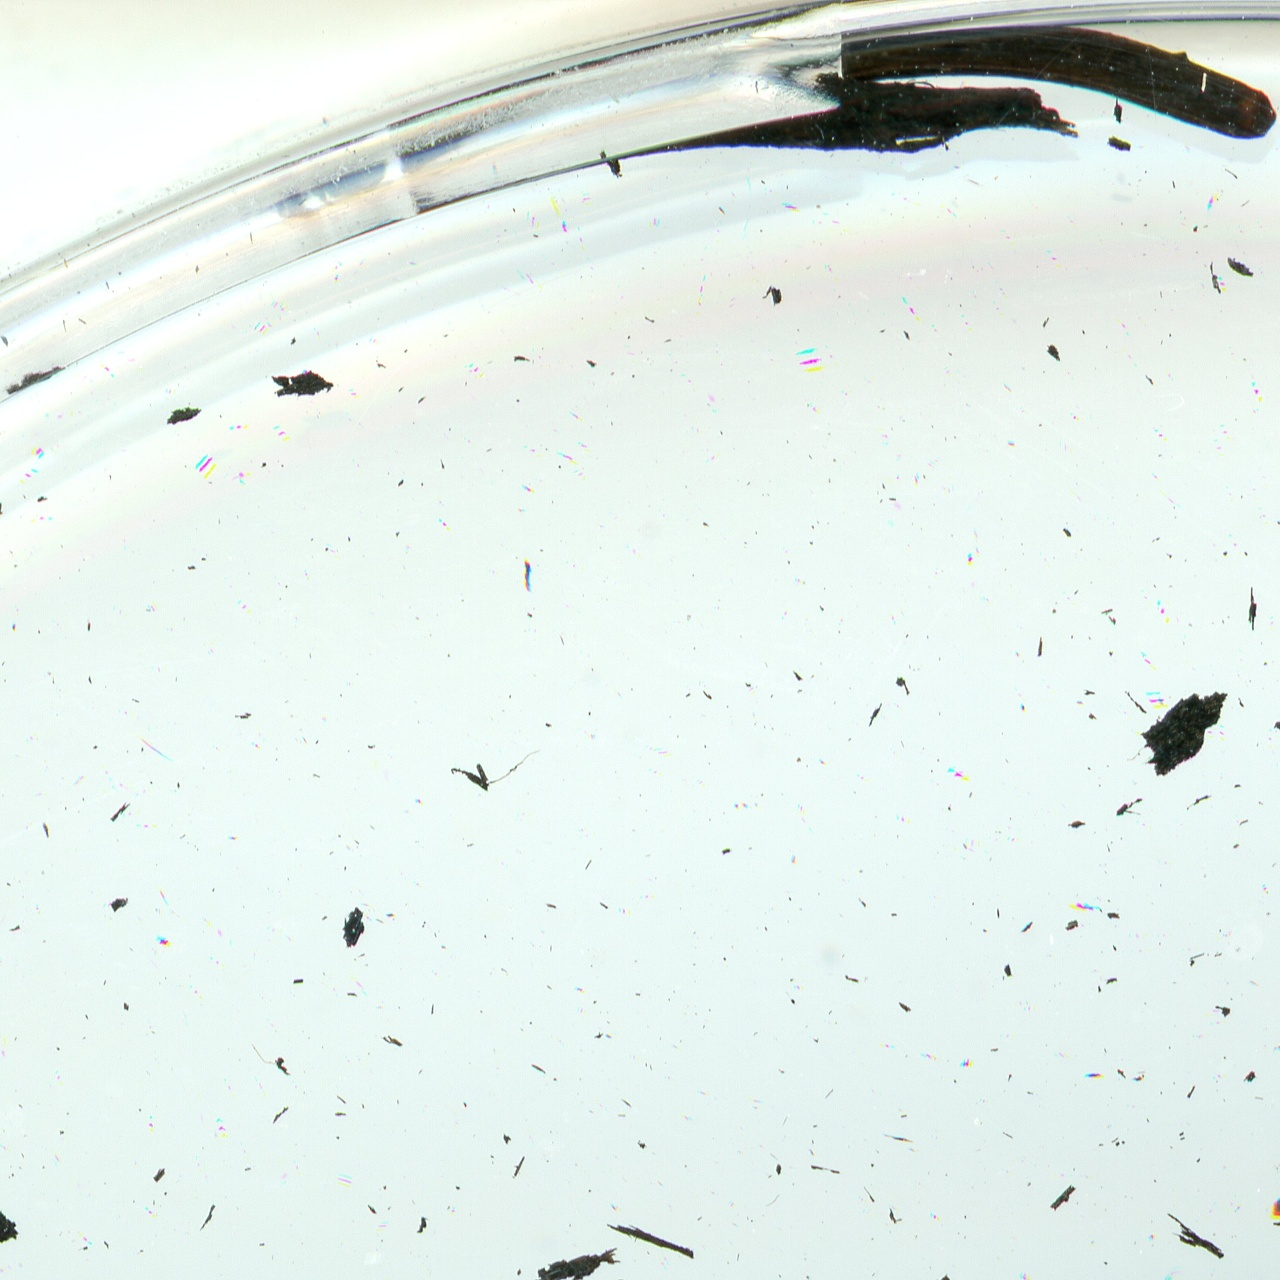arthropod: (1265, 1123, 1280, 1245), (1129, 1266, 1185, 1280)
